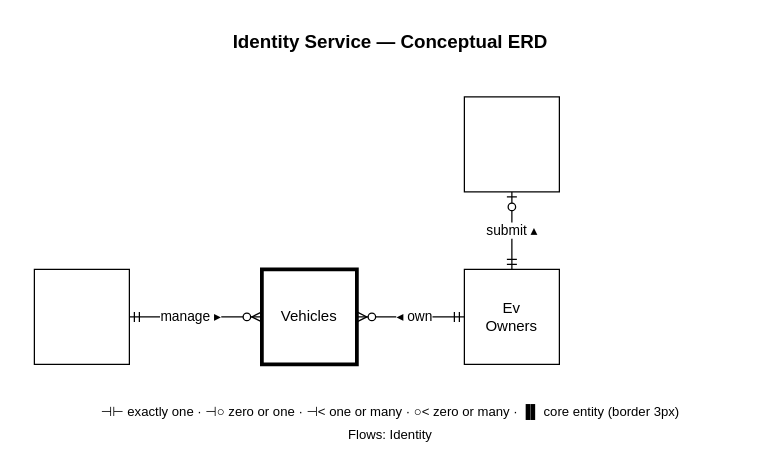
This 781x465 diagram has some shape labels left out. The shapes that lost their labels are listed below. From the top down, each one's centre as x and y in pixels, then its label:
At (511,144): "Kyc Profiles".
At (81,316): "Companies".
